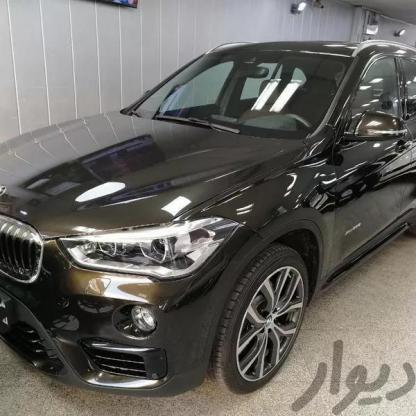Car: (0, 35, 416, 400)
